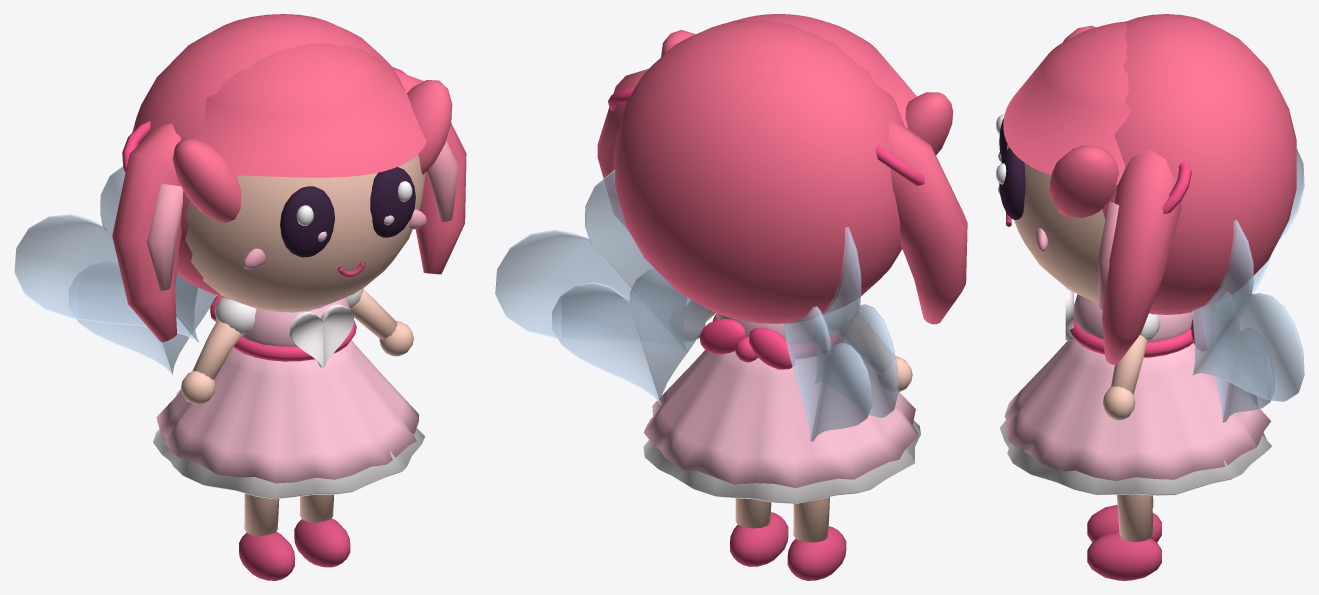
The model's file is Heartping_Fairy.obj.
3 views of the same model, side by side, from view 1: azimuth 30°, elevation 25°; view 2: azimuth 150°, elevation 25°; view 3: azimuth 270°, elevation 25° (orthographic). The views are drawn at different scales.
Visible parts, largest first — view 1: Skirt, Hair_Bangs, Head, Wing_Upper_L, Hair_Back, Hair_Ear_L, Wing_Lower_L, Skirt_Frill, Hair_Side_L, Hair_Ear_R, Eye_L, Hair_Side_R (+15 smaller); view 2: Hair_Back, Skirt, Wing_Upper_R, Wing_Lower_R, Hair_Ear_L, Wing_Upper_L, Wing_Lower_L, Skirt_Frill, Hair_Bangs, Shoe_L, Shoe_R, Hair_Side_L (+10 smaller); view 3: Hair_Back, Skirt, Hair_Bangs, Wing_Upper_R, Hair_Ear_R, Head, Wing_Lower_R, Skirt_Frill, Hair_Side_R, Shoe_R, Body_Bodice, Leg_R (+11 smaller).
Boxes of the visible parts, <box> form: Skirt: <box>156,340,418,483</box>; Hair_Bangs: <box>193,43,426,177</box>; Head: <box>185,154,425,311</box>; Wing_Upper_L: <box>14,166,198,342</box>; Hair_Back: <box>132,14,405,299</box>; Hair_Ear_L: <box>112,123,181,342</box>; Wing_Lower_L: <box>69,261,215,375</box>; Skirt_Frill: <box>153,428,424,499</box>; Hair_Side_L: <box>172,138,241,222</box>; Hair_Ear_R: <box>395,70,466,274</box>; Eye_L: <box>280,186,334,257</box>; Hair_Side_R: <box>407,80,452,174</box>; Hair_Back: <box>613,20,904,323</box>; Skirt: <box>643,342,917,488</box>; Wing_Upper_R: <box>495,170,687,352</box>; Wing_Lower_R: <box>552,267,710,405</box>; Hair_Ear_L: <box>888,121,967,324</box>; Wing_Upper_L: <box>815,227,898,417</box>; Wing_Lower_L: <box>783,306,872,441</box>; Skirt_Frill: <box>643,417,920,503</box>; Hair_Bangs: <box>727,14,916,128</box>; Shoe_L: <box>787,526,846,580</box>; Shoe_R: <box>730,512,788,566</box>; Hair_Side_L: <box>905,92,953,154</box>; Hair_Back: <box>1102,14,1296,314</box>; Skirt: <box>1004,338,1271,481</box>; Hair_Bangs: <box>1003,21,1130,184</box>; Wing_Upper_R: <box>1192,220,1304,401</box>; Hair_Ear_R: <box>1102,149,1181,364</box>; Head: <box>1006,144,1105,302</box>; Wing_Lower_R: <box>1201,292,1274,422</box>; Skirt_Frill: <box>999,420,1271,495</box>; Hair_Side_R: <box>1049,145,1119,218</box>; Shoe_R: <box>1087,532,1161,580</box>; Body_Bodice: <box>1074,294,1193,342</box>; Leg_R: <box>1116,494,1153,542</box>.
Bounding box in the file's own units: 1.6 × 2.1 × 1.09.
